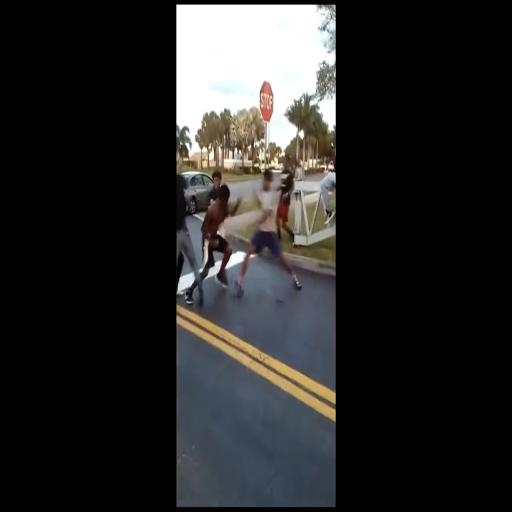violencia: (186, 150, 306, 322)
